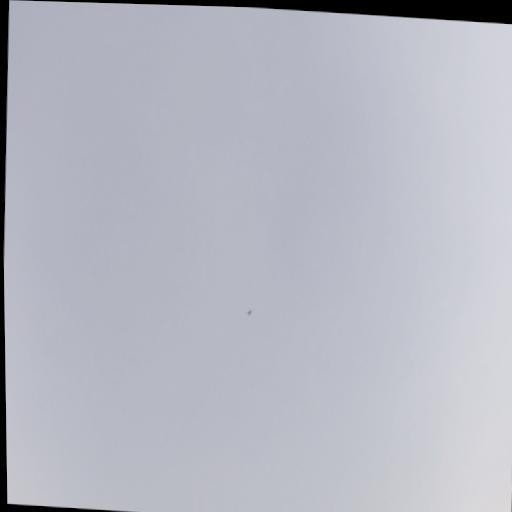drones: (244, 306, 253, 317)
